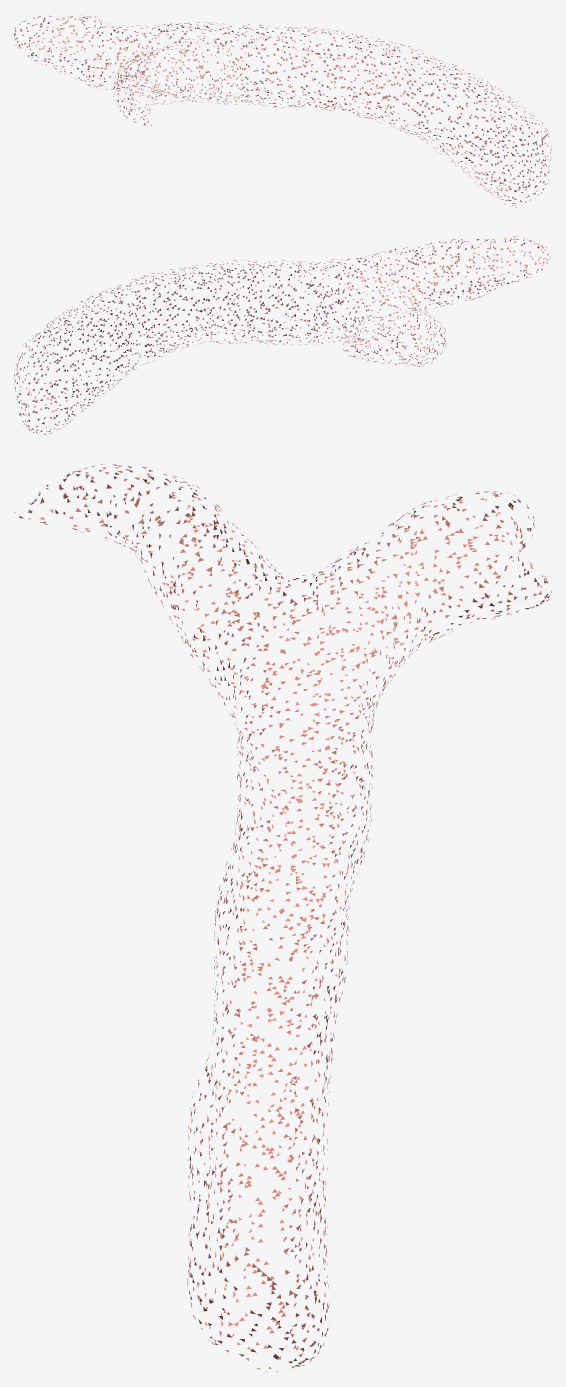
Rendered from morph_002.glb.
The picture shows the model from 3 angles, top to bottom: view 1: azimuth 30°, elevation 25°; view 2: azimuth 150°, elevation 25°; view 3: azimuth 270°, elevation 25°; orthographic projection. The views are drawn at different scales.
Size of the model in its own units: 137 by 74.2 by 70.6.
